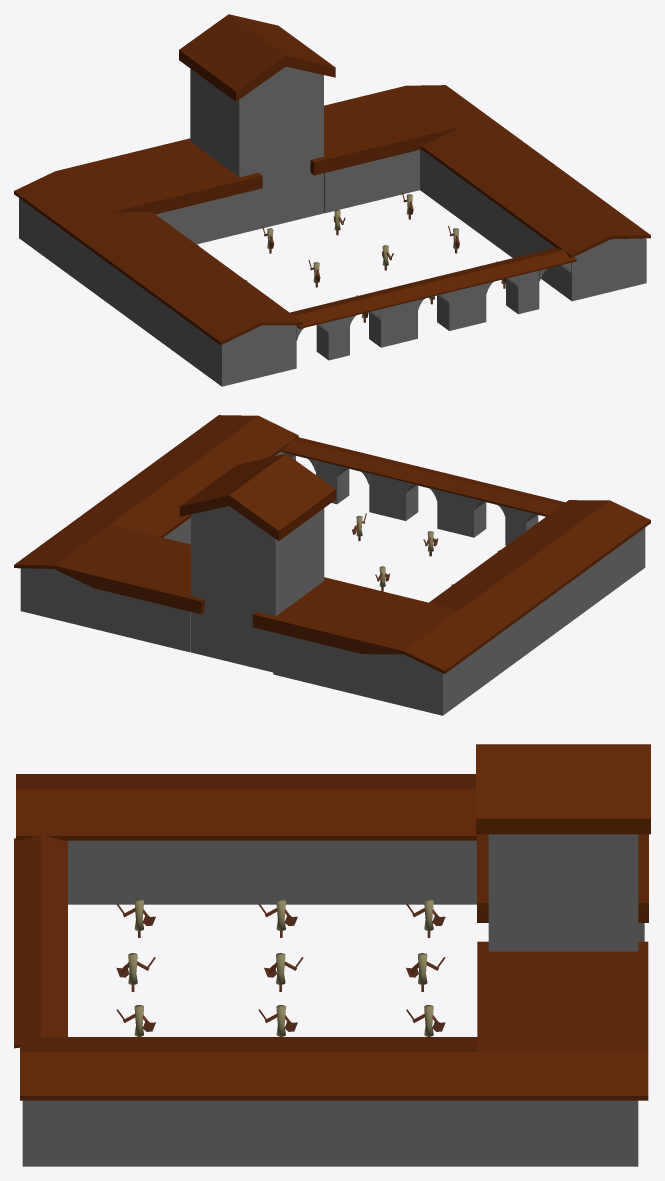
The model's file is meleeBuilding.fbx.
The picture shows the model from 3 angles, top to bottom: view 1: azimuth 30°, elevation 25°; view 2: azimuth 150°, elevation 25°; view 3: azimuth 270°, elevation 25°; orthographic projection. The views are drawn at different scales.
Parts seen in each view (by area): view 1: Cube; view 2: Cube; view 3: Cube.
Part boxes in pixels (x1,y1,x2,y2): Cube: (14,14,650,386); Cube: (14,415,650,715); Cube: (14,744,650,1166).
Bounding box in the file's own units: 4084 × 1596 × 3406.
